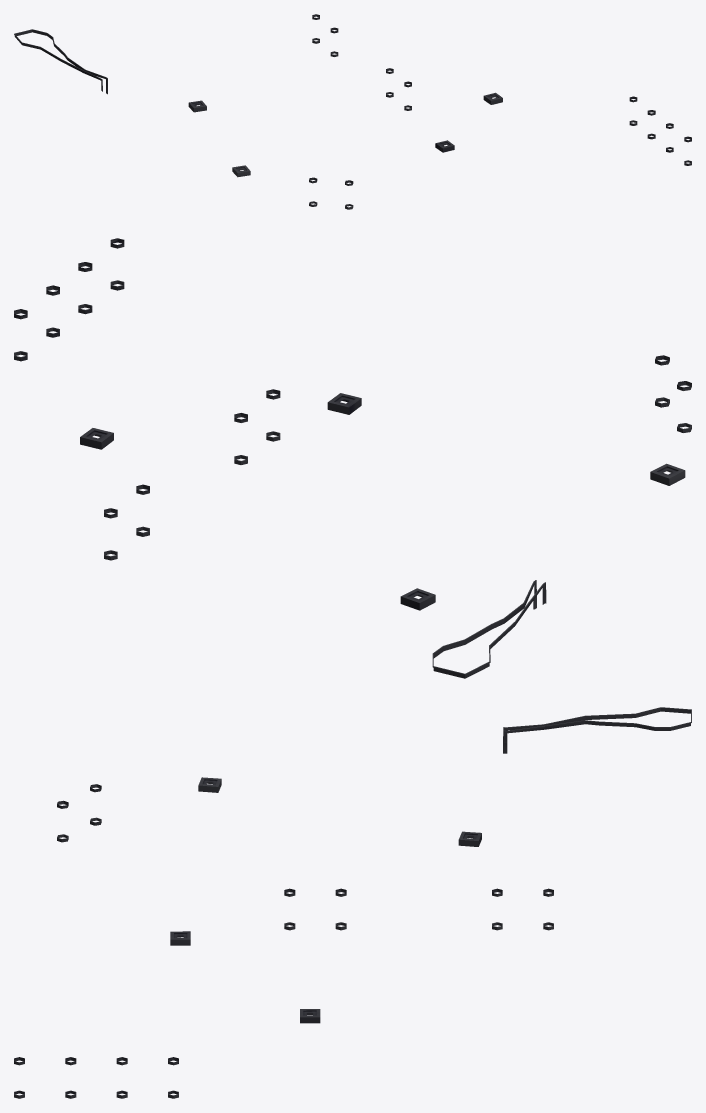
The model's file is Ground_03.FBX.
3 views of the same model, one above another, from view 1: azimuth 30°, elevation 25°; view 2: azimuth 150°, elevation 25°; view 3: azimuth 270°, elevation 25° (orthographic). The views are drawn at different scales.
Visible parts, largest first — view 1: Ground_03; view 2: Ground_03; view 3: Ground_03.
Part boxes in pixels (left/top/right/bottom): Ground_03: left=14, top=14, right=691, bottom=209; Ground_03: left=14, top=238, right=691, bottom=678; Ground_03: left=14, top=707, right=691, bottom=1098.
Bounding box in the file's own units: 40.78 × 5.46 × 38.39.
